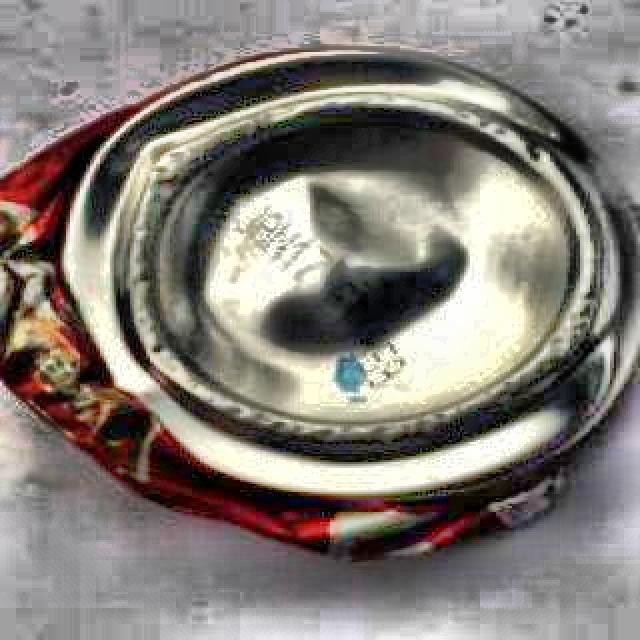metal: (0, 42, 640, 569)
